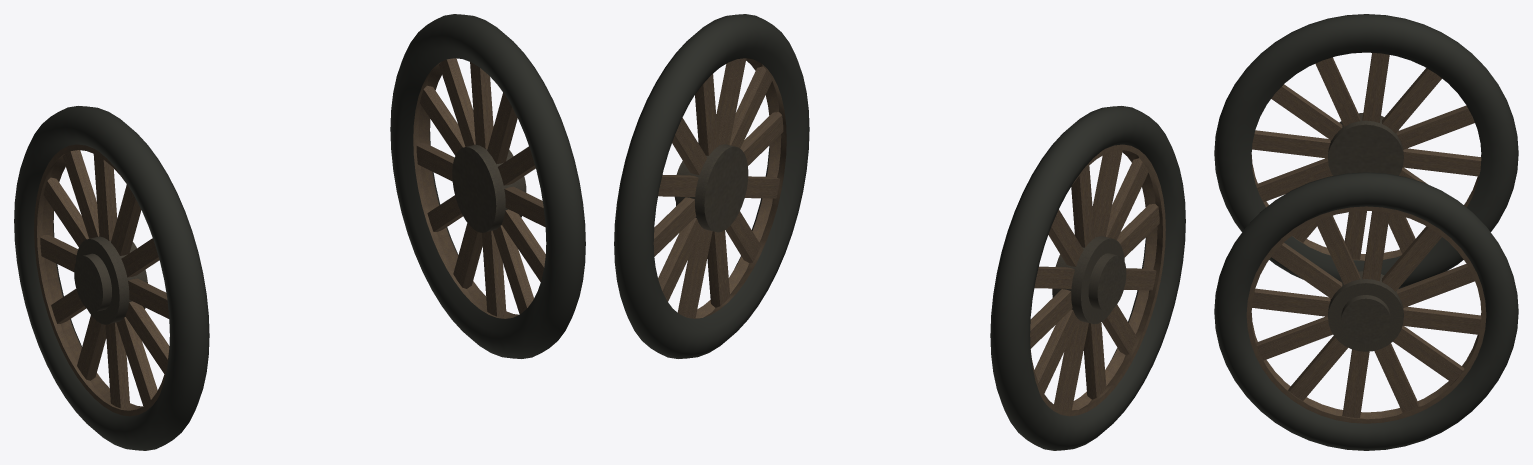
Rendered from llantas_coche.obj.
3 renders of one model, left to right at view 1: azimuth 30°, elevation 25°; view 2: azimuth 150°, elevation 25°; view 3: azimuth 270°, elevation 25°, orthographic. The views are drawn at different scales.
Visible parts, largest first — view 1: Torus.002_Materiau_Metal, Torus.002_Materiau; view 2: Torus.002_Materiau_Metal, Torus.002_Materiau; view 3: Torus.002_Materiau, Torus.002_Materiau_Metal.
Boxes of the visible parts, box(x1,y1,x2,y2) form: Torus.002_Materiau_Metal: box(24, 58, 545, 423); Torus.002_Materiau: box(14, 14, 585, 450); Torus.002_Materiau_Metal: box(653, 58, 1175, 423); Torus.002_Materiau: box(614, 14, 1185, 450); Torus.002_Materiau: box(1214, 14, 1518, 450); Torus.002_Materiau_Metal: box(1246, 53, 1486, 423).
Bounding box in the file's own units: 4 × 2.89 × 2.89.
